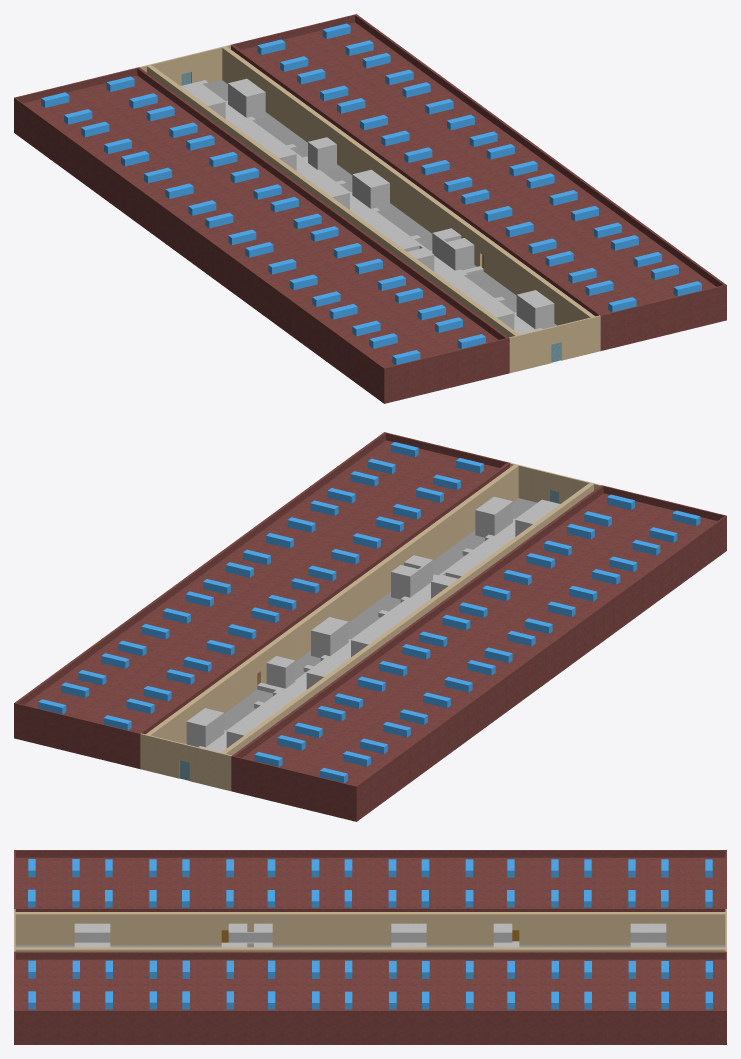
Rendered from Activated_Carbon_Filter_expansion.glb.
The picture shows the model from 3 angles, top to bottom: view 1: azimuth 30°, elevation 25°; view 2: azimuth 150°, elevation 25°; view 3: azimuth 270°, elevation 25°; orthographic projection. The views are drawn at different scales.
Parts seen in each view (by area): view 1: Floor1; view 2: Floor1; view 3: Floor1.
Part boxes in pixels (x1,y1,x2,y2): Floor1: (14, 14, 726, 403); Floor1: (14, 432, 726, 821); Floor1: (14, 850, 726, 1044).
Bounding box in the file's own units: 50.92 × 5 × 95.36.
Materials: 7 (6 with a texture image).
